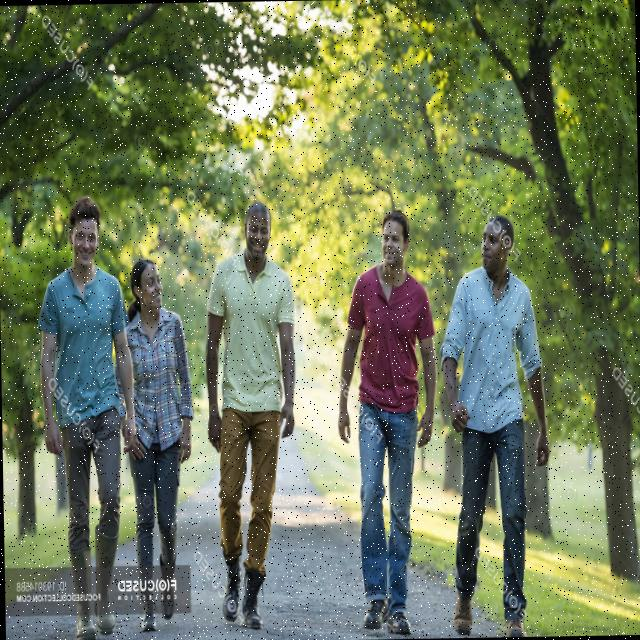Person: (439, 214, 552, 638), (38, 197, 140, 640), (336, 211, 440, 634), (202, 198, 300, 628), (112, 256, 196, 632)
